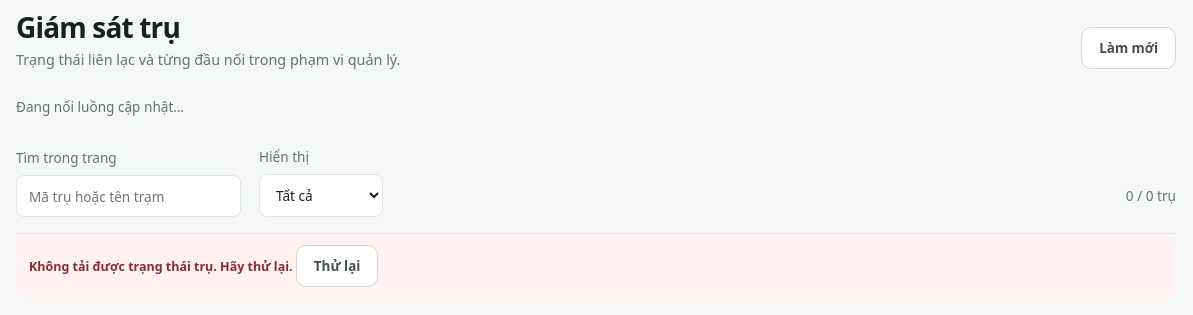
Test: OcppConnectionsPage › supports retry after an API error
Expected: the message "Không tải được trạng thái trụ. Hãy thử lại. Thử lại" is shown, [16, 234, 1176, 298]
Click the button "Thử lại".
click(337, 266)  # box [296, 245, 378, 287]
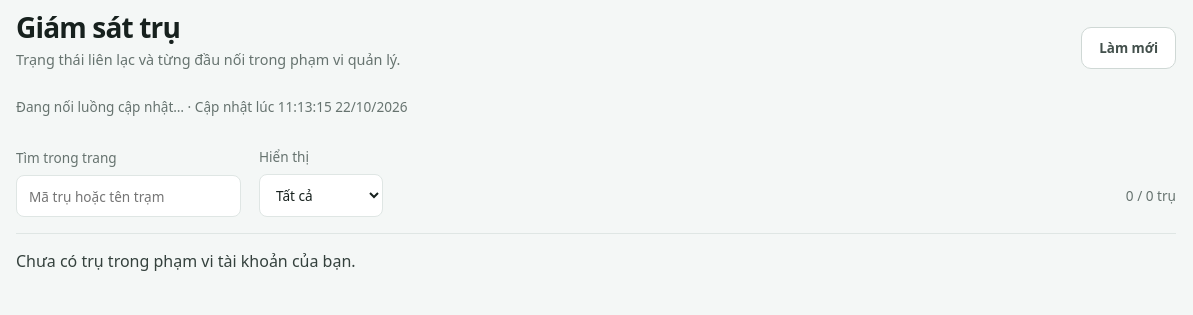
Expected: the text "Chưa có trụ trong phạm vi tài khoản của bạn." is shown, [16, 250, 356, 272]
